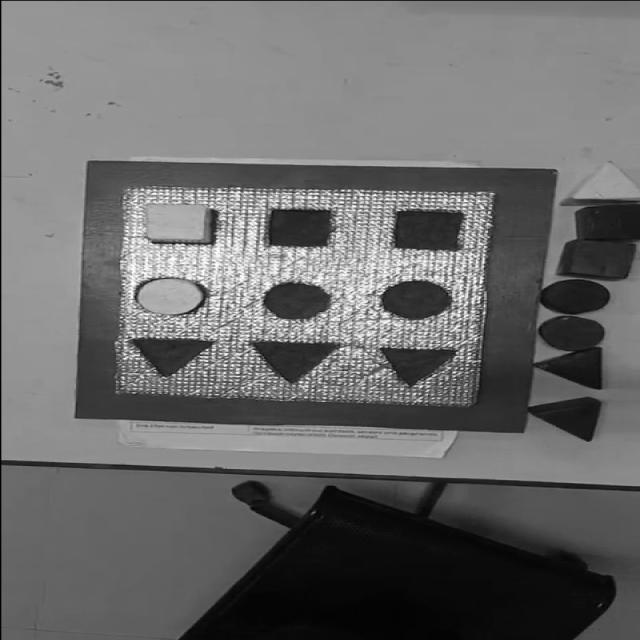bcircle: (538, 278, 612, 315)
bcube: (574, 203, 640, 241)
btriangle: (533, 347, 604, 390)
mtcircle: (379, 280, 454, 320), (260, 281, 334, 320)
mtcube: (392, 209, 468, 251), (266, 208, 334, 248)
mttriangle: (249, 340, 340, 384), (128, 337, 216, 378), (377, 346, 461, 388)
rcircle: (536, 315, 606, 351)
rcube: (554, 239, 637, 281)
rtriangle: (526, 396, 604, 441)
wb: (110, 185, 494, 405)
ycircle: (131, 276, 211, 317)
ycube: (142, 202, 215, 245)
ytriangle: (562, 160, 640, 204)
